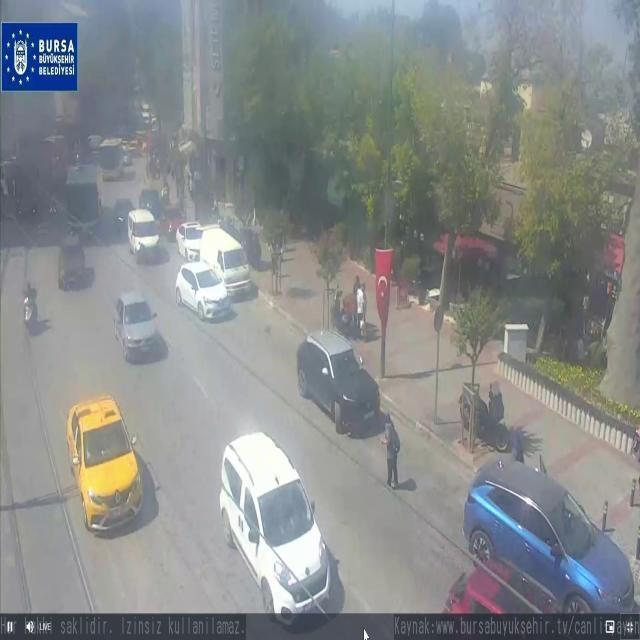Car: (464, 454, 636, 614), (220, 434, 334, 624), (66, 396, 142, 530), (298, 331, 380, 434), (175, 262, 231, 322), (114, 291, 161, 358), (126, 209, 160, 260), (175, 221, 205, 259), (139, 189, 165, 224), (157, 207, 185, 239)
Cycle: (20, 278, 38, 330)
Van: (196, 229, 251, 299)
